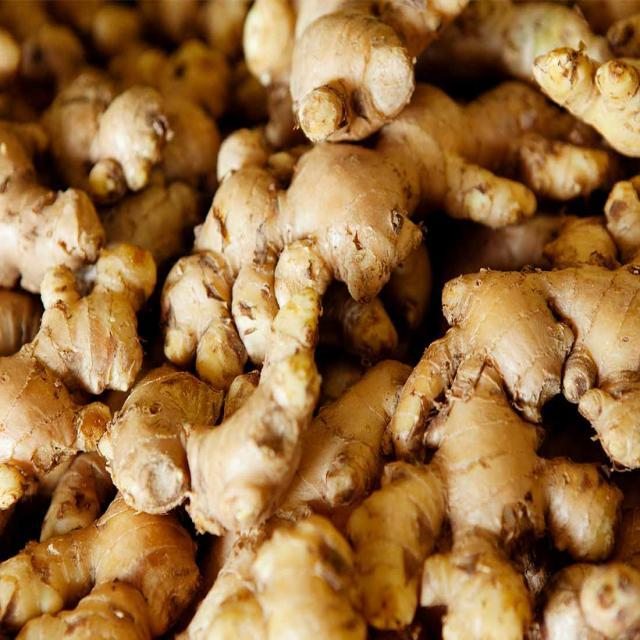ginger: (399, 226, 640, 480), (235, 0, 491, 153)
